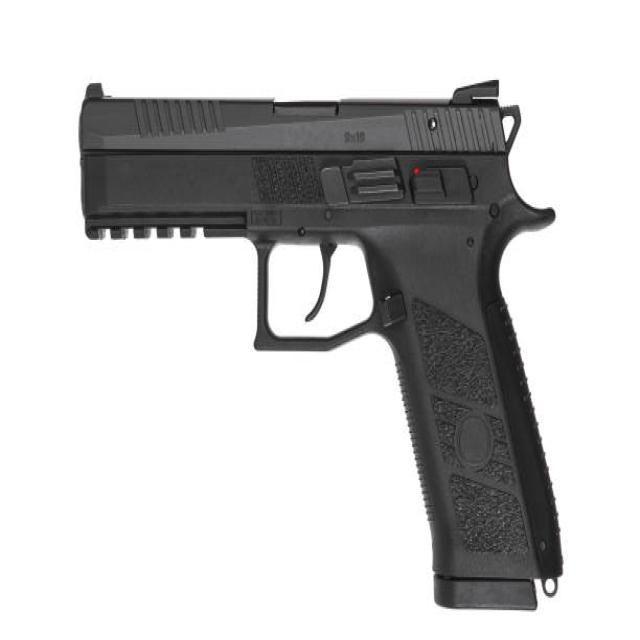pistol: (68, 69, 570, 625)
